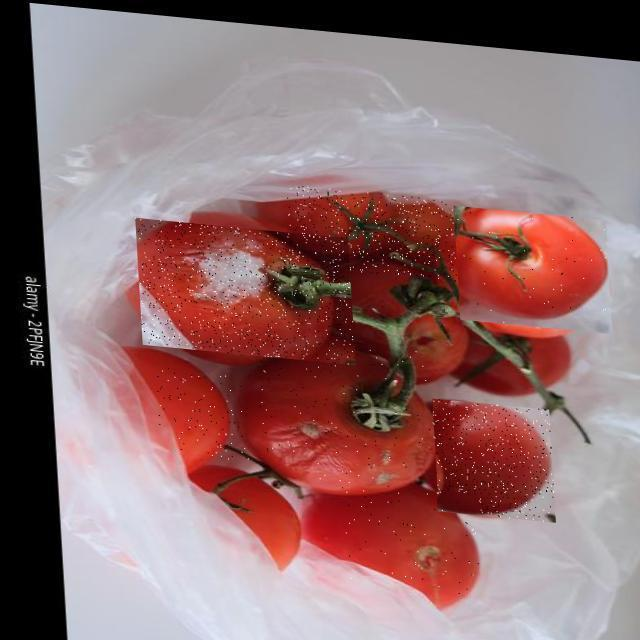cardboard: (21, 3, 638, 638)
